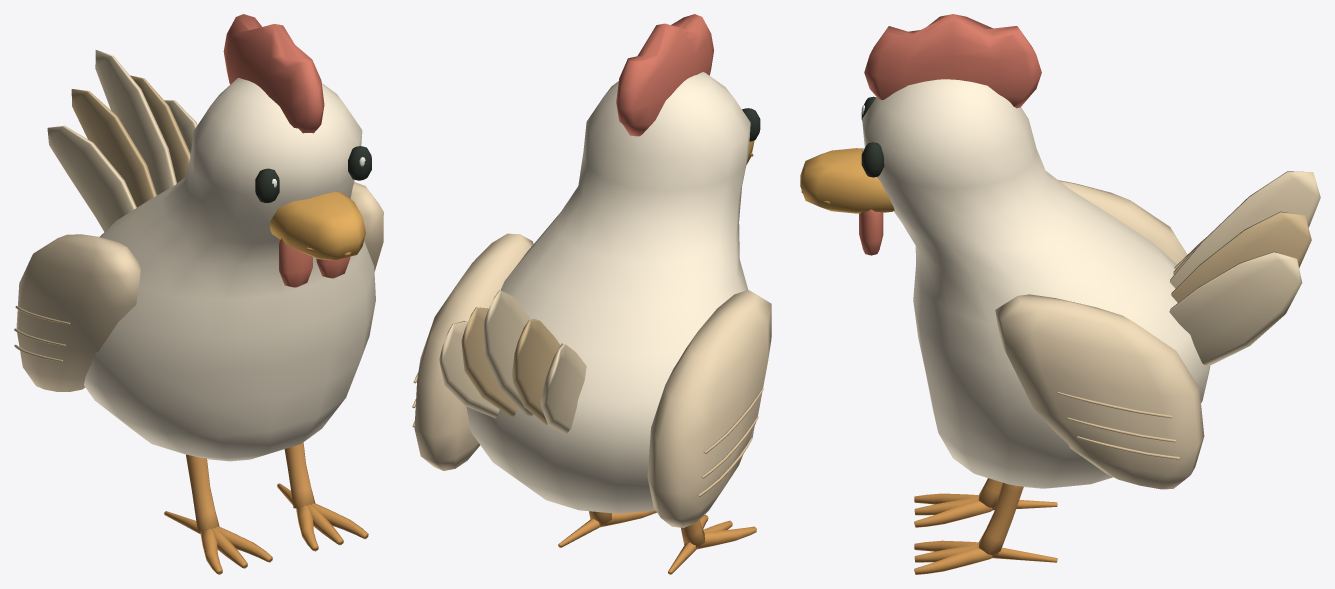
Rendered from chicken-lod.glb.
The picture shows the model from 3 angles, left to right: view 1: azimuth 30°, elevation 25°; view 2: azimuth 150°, elevation 25°; view 3: azimuth 270°, elevation 25°; orthographic projection. The views are drawn at different scales.
Parts seen in each view (by area): view 1: continuous-body-neck, sculpted-wing--1, scalloped-comb, upper-beak, tail-feather-0, tail-feather-2, tail-feather-1, tail-feather-3, ankle--1, sculpted-wing-1, ankle-1, wattle--1 (+10 smaller); view 2: continuous-body-neck, sculpted-wing--1, sculpted-wing-1, scalloped-comb, tail-feather-2, tail-feather-1, tail-feather-0, tail-feather-3, tail-feather-4, foot-toe--1--1; view 3: continuous-body-neck, sculpted-wing-1, scalloped-comb, tail-feather-4, tail-feather-2, upper-beak, tail-feather-3, sculpted-wing--1, ankle-1, wattle-1, foot-toe--1-1, foot-toe-1-1 (+1 smaller).
Boxes of the visible parts, bbox=[...] form: continuous-body-neck: bbox=[84, 78, 375, 461]; sculpted-wing--1: bbox=[16, 234, 140, 391]; scalloped-comb: bbox=[223, 14, 324, 133]; upper-beak: bbox=[270, 191, 365, 260]; tail-feather-0: bbox=[47, 125, 136, 231]; tail-feather-2: bbox=[95, 50, 176, 195]; tail-feather-1: bbox=[71, 89, 156, 207]; tail-feather-3: bbox=[130, 75, 190, 183]; ankle--1: bbox=[186, 454, 219, 531]; sculpted-wing-1: bbox=[351, 182, 383, 271]; ankle-1: bbox=[284, 442, 315, 508]; wattle--1: bbox=[279, 238, 312, 287]; continuous-body-neck: bbox=[466, 72, 754, 513]; sculpted-wing--1: bbox=[647, 290, 771, 527]; sculpted-wing-1: bbox=[414, 233, 533, 470]; scalloped-comb: bbox=[616, 14, 713, 136]; tail-feather-2: bbox=[484, 290, 532, 416]; tail-feather-1: bbox=[512, 319, 560, 424]; tail-feather-0: bbox=[540, 343, 586, 434]; tail-feather-3: bbox=[461, 307, 517, 416]; tail-feather-4: bbox=[439, 321, 499, 418]; foot-toe--1--1: bbox=[697, 526, 756, 549]; continuous-body-neck: bbox=[862, 79, 1210, 488]; sculpted-wing-1: bbox=[995, 294, 1204, 489]; scalloped-comb: bbox=[864, 14, 1041, 108]; tail-feather-4: bbox=[1169, 251, 1302, 366]; tail-feather-2: bbox=[1170, 171, 1320, 288]; upper-beak: bbox=[800, 148, 894, 213]; tail-feather-3: bbox=[1171, 211, 1311, 302]; sculpted-wing--1: bbox=[1058, 180, 1187, 264]; ankle-1: bbox=[978, 482, 1023, 555]; wattle-1: bbox=[859, 209, 883, 255]; foot-toe--1-1: bbox=[914, 499, 992, 527]; foot-toe-1-1: bbox=[914, 546, 992, 574].
Size of the model in its own units: 0.5896 by 0.9352 by 0.8407.
